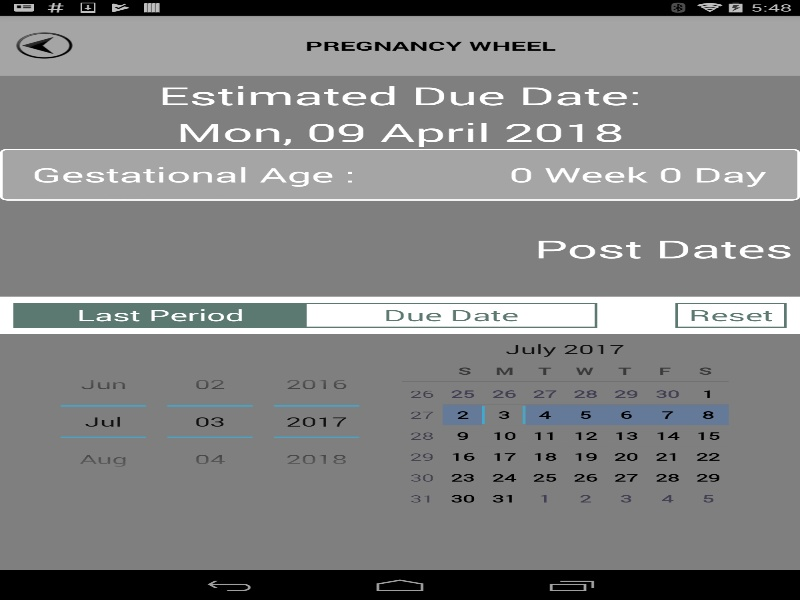Button: (13, 302, 306, 327), (304, 302, 597, 327), (60, 365, 146, 406), (60, 436, 146, 477), (167, 365, 252, 406), (167, 436, 252, 477), (274, 365, 359, 406), (274, 436, 359, 477), (675, 302, 786, 327)
Input: (60, 406, 146, 436), (167, 406, 252, 436), (274, 406, 359, 436)
